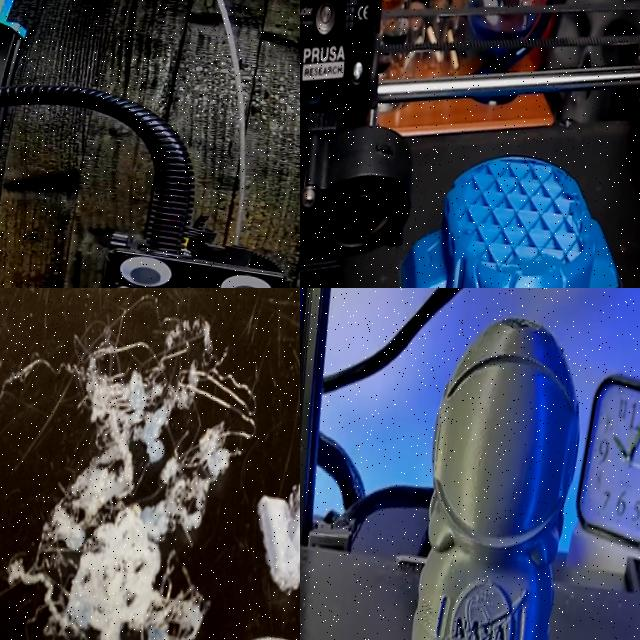spaghetti: (0, 296, 258, 640)
